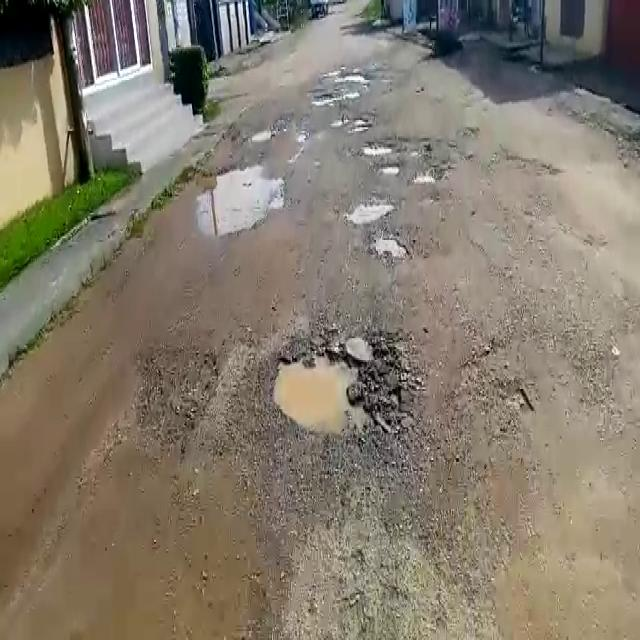Pothole: (266, 336, 400, 442), (197, 164, 291, 239), (360, 226, 416, 259), (339, 196, 398, 226), (333, 112, 373, 131), (359, 137, 399, 155), (412, 172, 444, 188), (379, 162, 404, 176), (251, 128, 272, 144)
